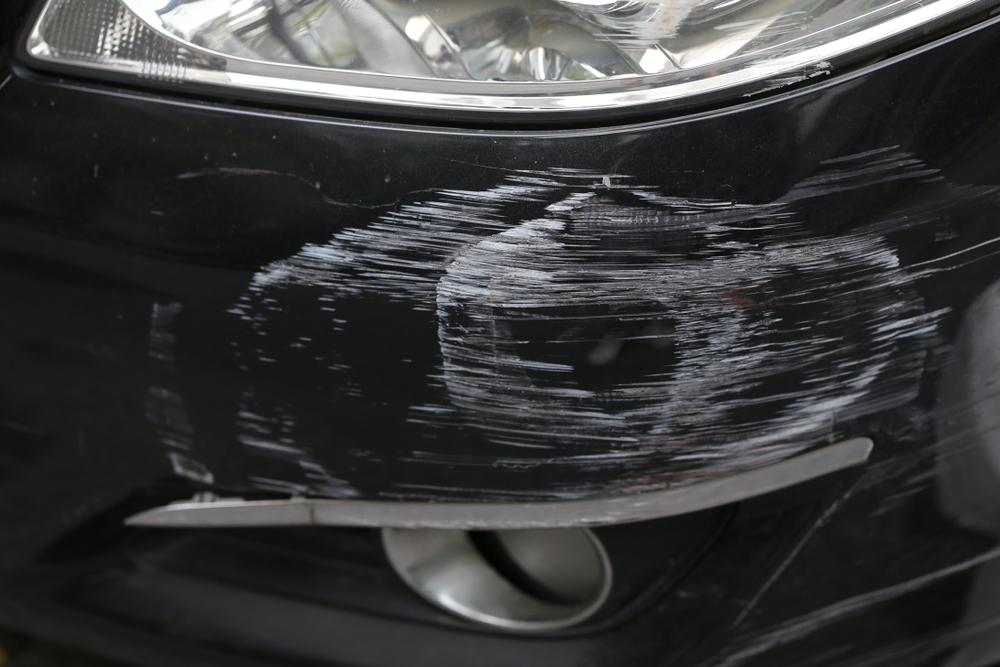scratch: (136, 144, 1000, 525)
